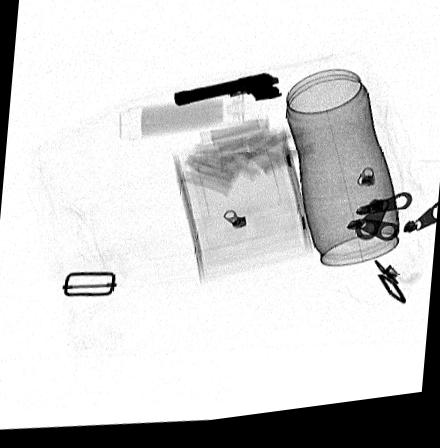Gun: (173, 79, 284, 113)
